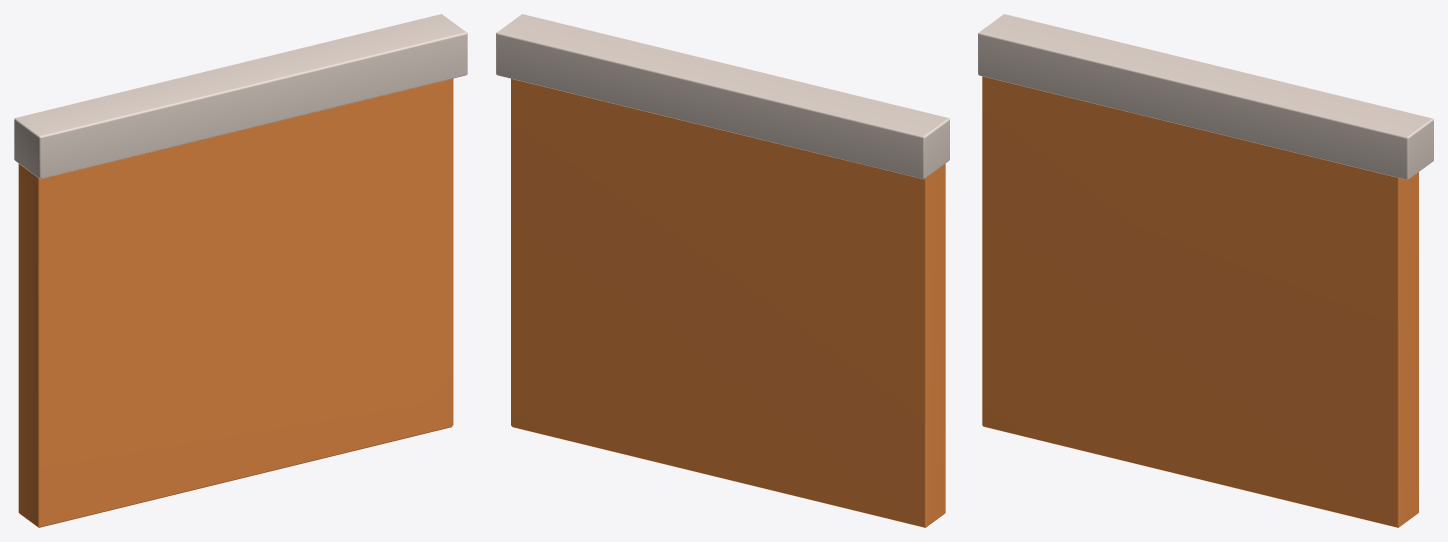
File: Wall_32.glb
The picture shows the model from 3 angles, left to right: view 1: azimuth 30°, elevation 25°; view 2: azimuth 150°, elevation 25°; view 3: azimuth 330°, elevation 25°; orthographic projection.
Parts seen in each view (by area): view 1: Wall_32; view 2: Wall_32; view 3: Wall_32.
Part boxes in pixels (left/top/right/bottom): Wall_32: left=14, top=14, right=467, bottom=527; Wall_32: left=496, top=14, right=949, bottom=527; Wall_32: left=978, top=14, right=1433, bottom=527.
Size of the model in its own units: 4.75 by 4.17 by 0.5182.
1 material, 1 textured.
